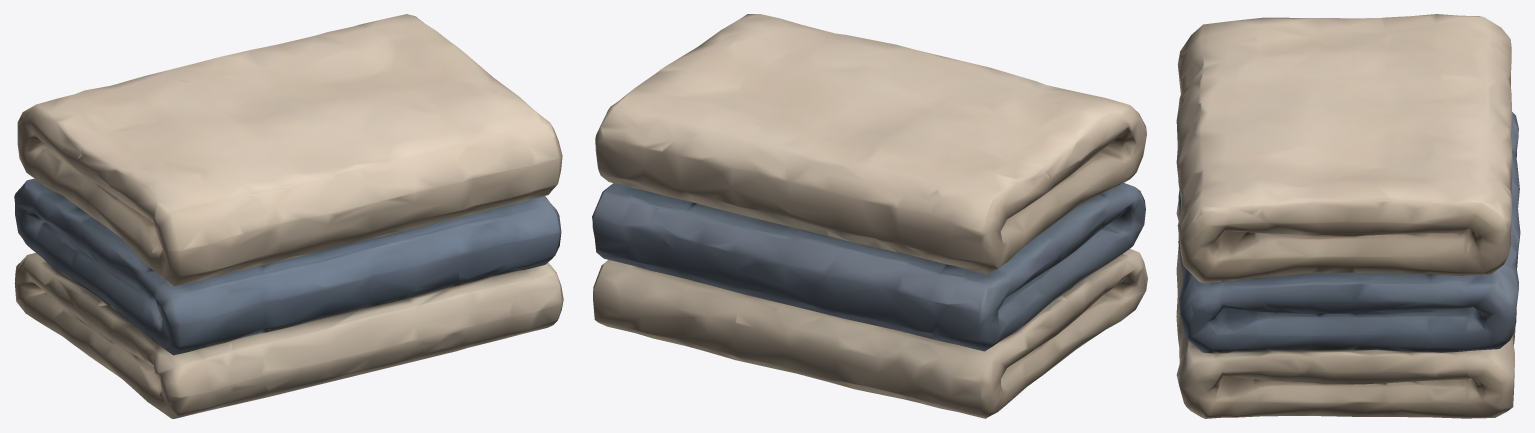
File: folded-linens.glb
The picture shows the model from 3 angles, left to right: view 1: azimuth 30°, elevation 25°; view 2: azimuth 150°, elevation 25°; view 3: azimuth 270°, elevation 25°; orthographic projection.
Parts seen in each view (by area): view 1: folded-linens; view 2: folded-linens; view 3: folded-linens.
Part boxes in pixels (x1,y1,x2,y2): folded-linens: [14, 14, 563, 418]; folded-linens: [592, 14, 1147, 418]; folded-linens: [1176, 14, 1520, 418].
Size of the model in its own units: 0.3 by 0.16 by 0.22.
1 material, 1 textured.
